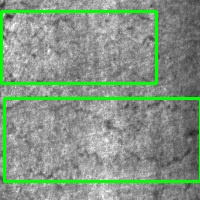crazing: (5, 98, 200, 181), (1, 11, 156, 83)
